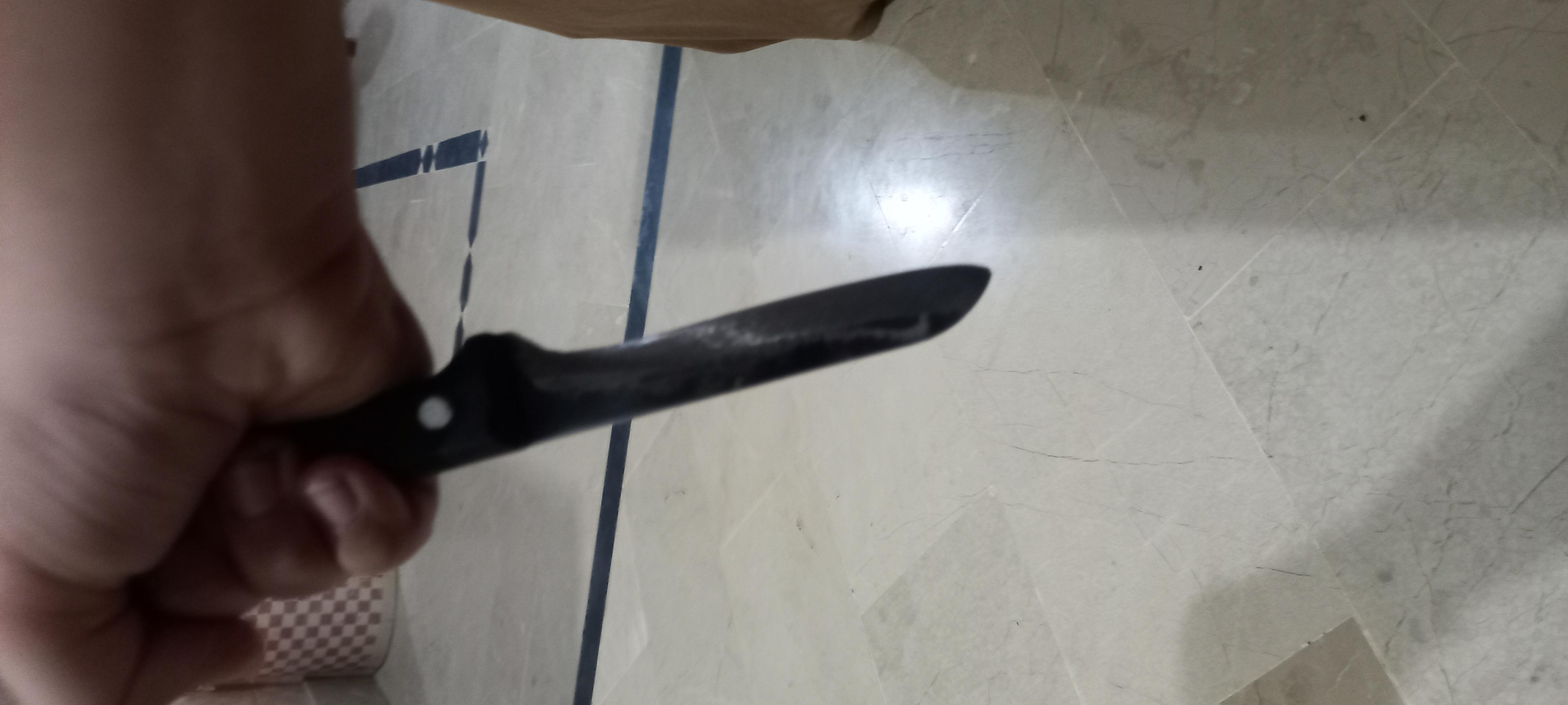knives: (167, 57, 1023, 461)
